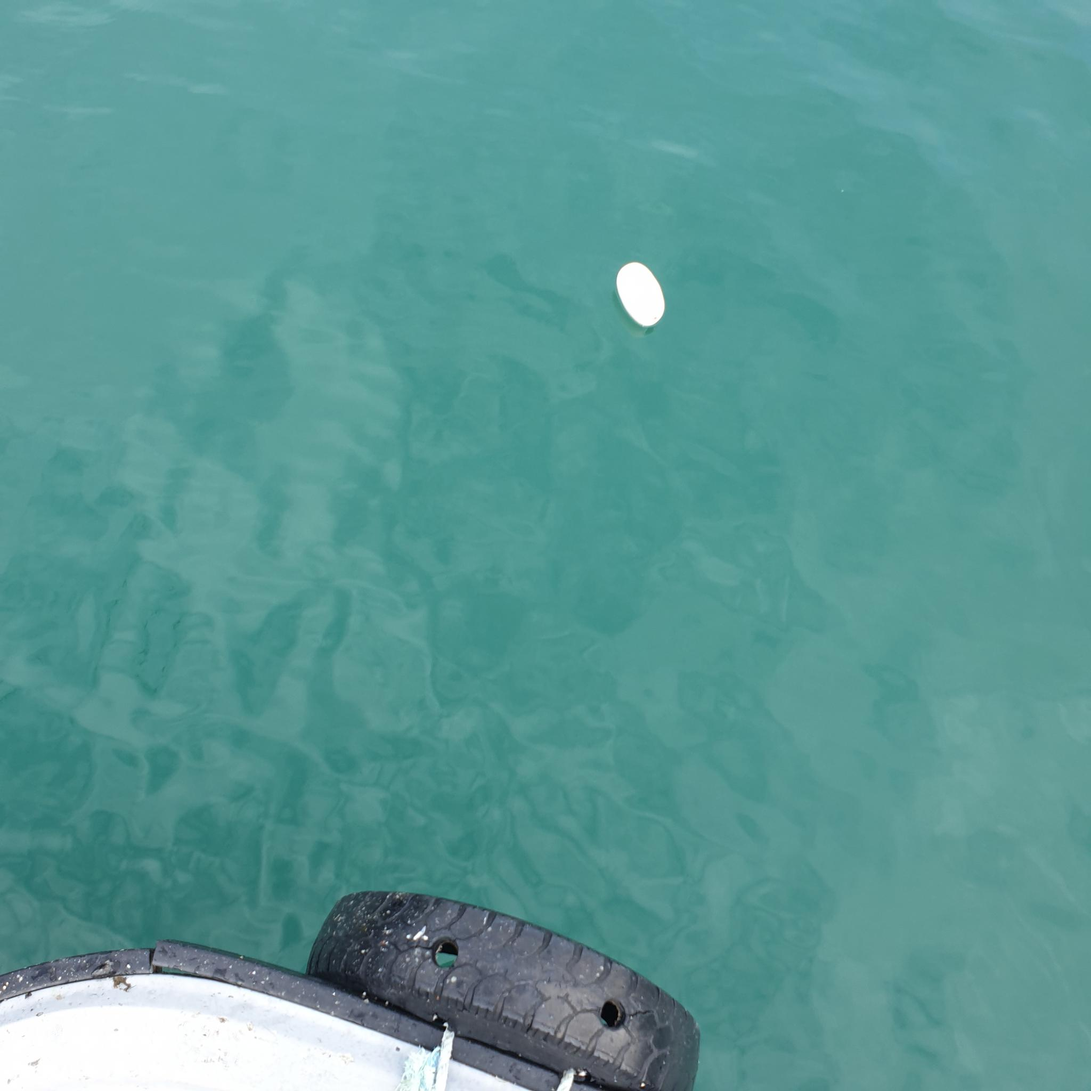sampah_terapung: (617, 263, 665, 327)
